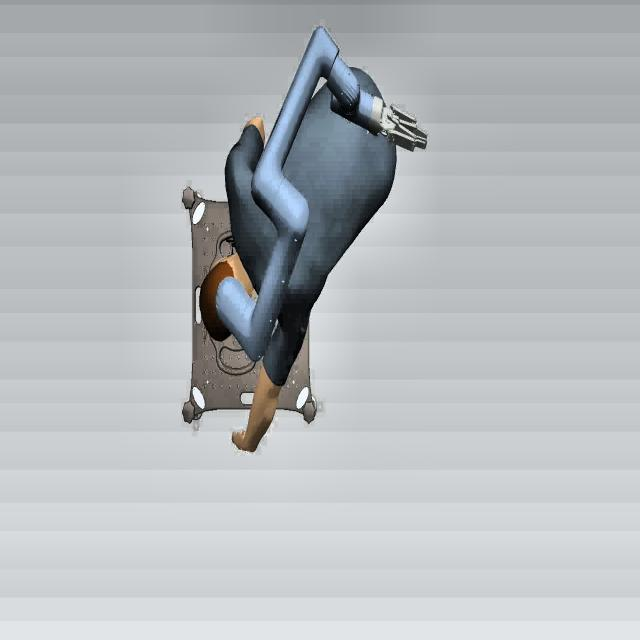robot: (216, 25, 428, 384)
